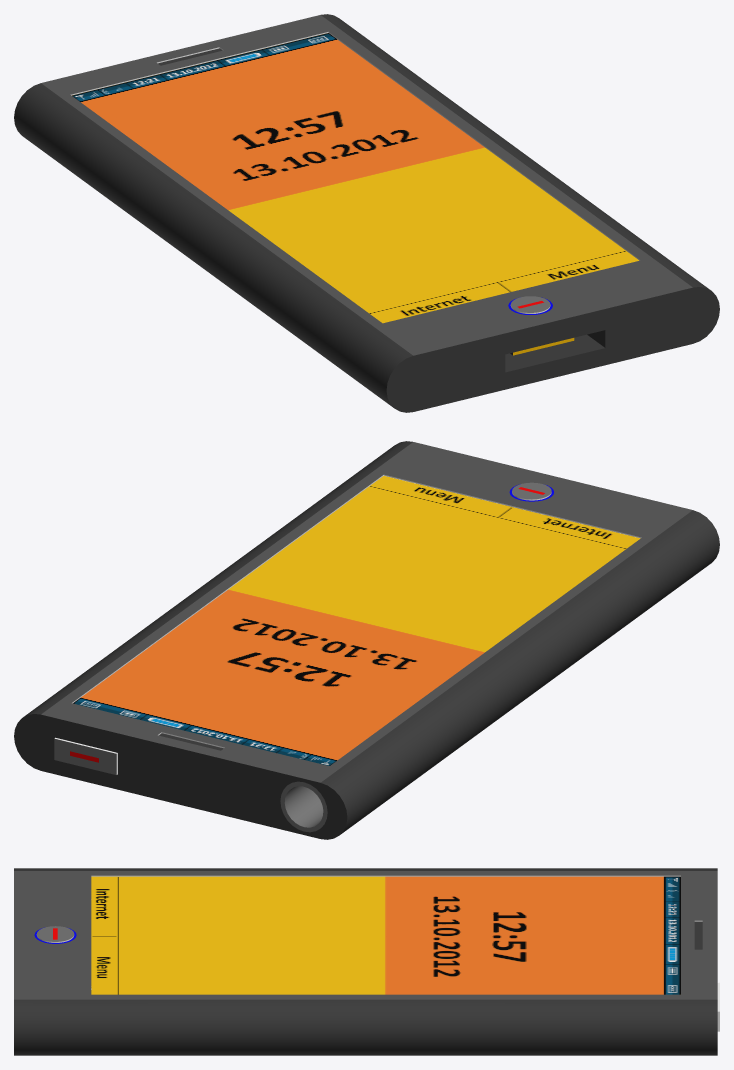
3 views of the same model, one above another, from view 1: azimuth 30°, elevation 25°; view 2: azimuth 150°, elevation 25°; view 3: azimuth 270°, elevation 25° (orthographic). The views are drawn at different scales.
Parts seen in each view (by area): view 1: mesh22-geometry-8, mesh22-geometry-0, mesh22-geometry-2, mesh22-geometry-1; view 2: mesh22-geometry-8, mesh22-geometry-0, mesh22-geometry-2, mesh22-geometry-3, mesh22-geometry-1; view 3: mesh22-geometry-8, mesh22-geometry-0, mesh22-geometry-2, mesh22-geometry-1, mesh22-geometry-3.
Part boxes in pixels (bbox=[...]): mesh22-geometry-8: bbox=[72, 33, 638, 323]; mesh22-geometry-0: bbox=[14, 14, 719, 412]; mesh22-geometry-2: bbox=[41, 15, 692, 355]; mesh22-geometry-1: bbox=[70, 32, 640, 313]; mesh22-geometry-8: bbox=[73, 476, 640, 765]; mesh22-geometry-0: bbox=[14, 441, 719, 839]; mesh22-geometry-2: bbox=[41, 442, 692, 782]; mesh22-geometry-3: bbox=[54, 482, 551, 832]; mesh22-geometry-1: bbox=[54, 474, 641, 774]; mesh22-geometry-8: bbox=[91, 876, 680, 994]; mesh22-geometry-0: bbox=[14, 868, 717, 1055]; mesh22-geometry-2: bbox=[14, 871, 717, 999]; mesh22-geometry-1: bbox=[36, 875, 719, 1031]; mesh22-geometry-3: bbox=[37, 926, 74, 941].
Size of the model in its own units: 0.4565 by 0.0753 by 0.8865.
Materials: 9 (1 with a texture image).
